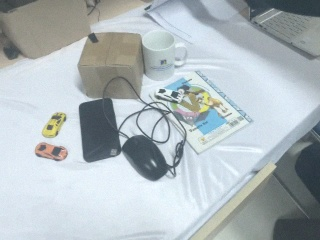box: (151, 68, 256, 157), (1, 1, 91, 61), (78, 29, 145, 100)
cup: (141, 29, 177, 82)
mouse: (121, 134, 169, 182)
phone: (78, 97, 122, 163)
toy_car: (41, 112, 67, 139), (35, 142, 68, 162), (153, 84, 184, 105)
